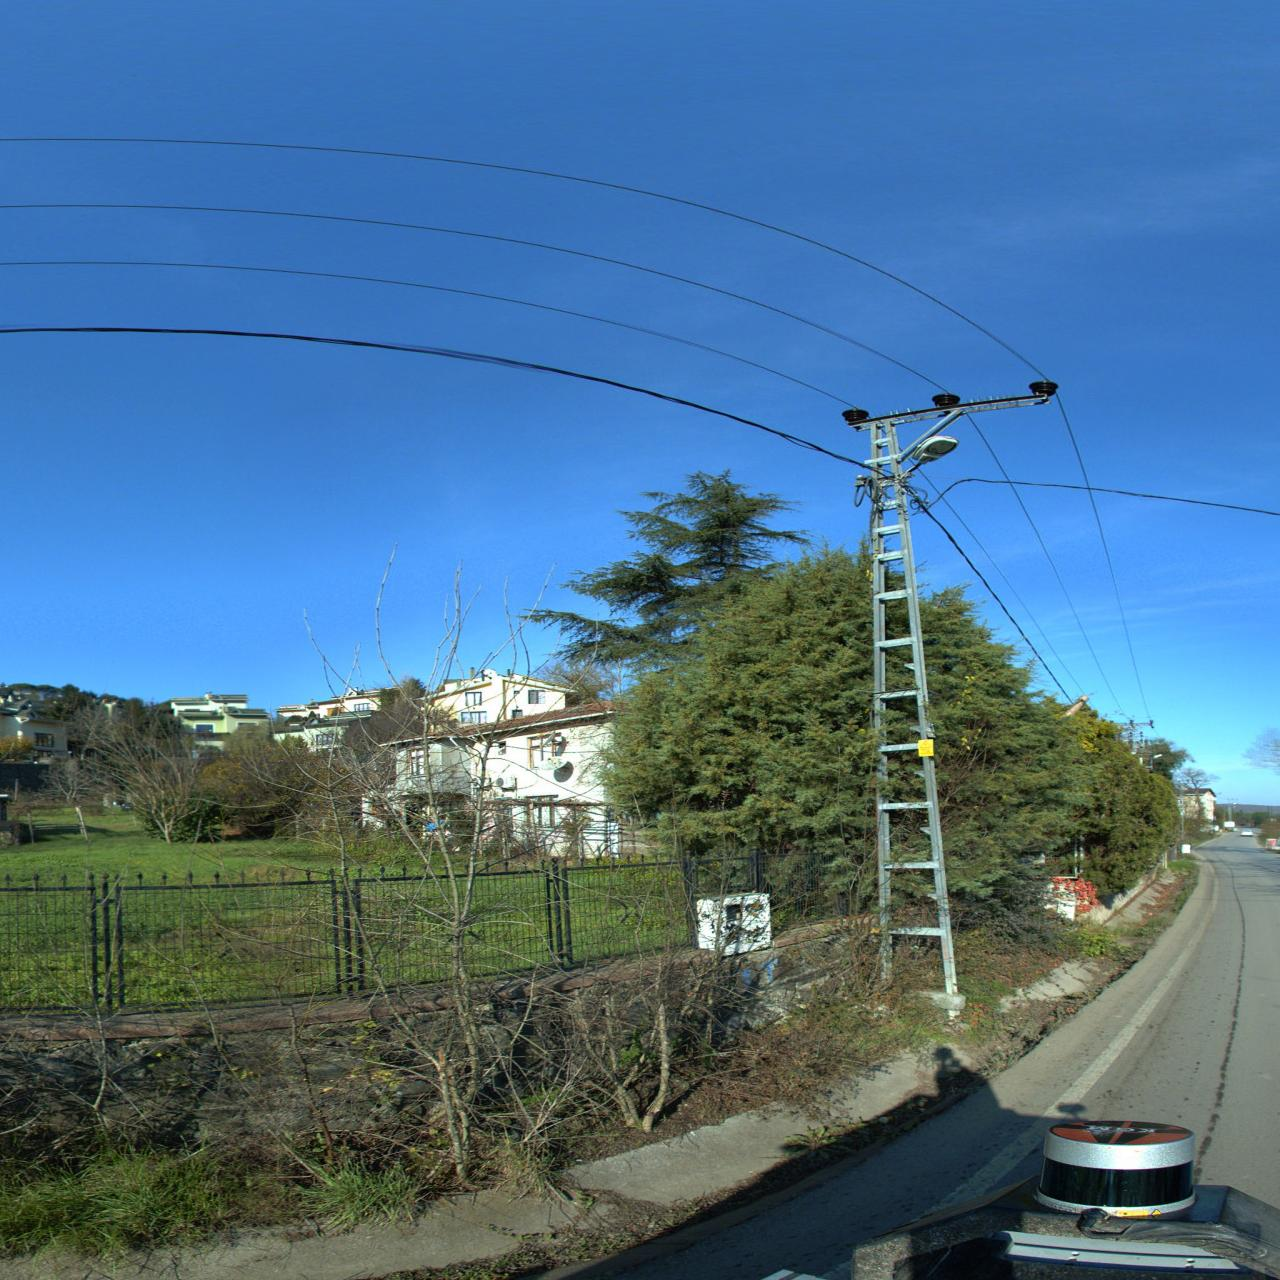Utility Pole Information Plate: (912, 736, 942, 760)
